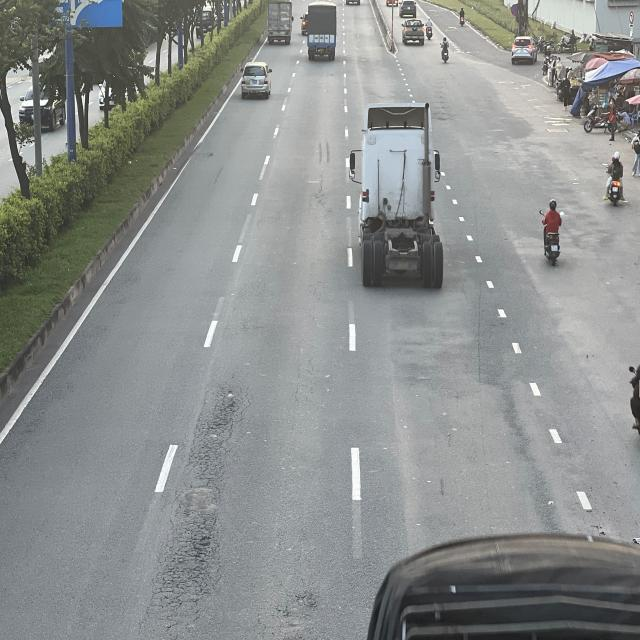car: (241, 61, 273, 97), (512, 34, 539, 64), (402, 19, 424, 46)
container: (351, 105, 443, 291)
truck: (307, 5, 340, 64), (268, 0, 294, 43)
